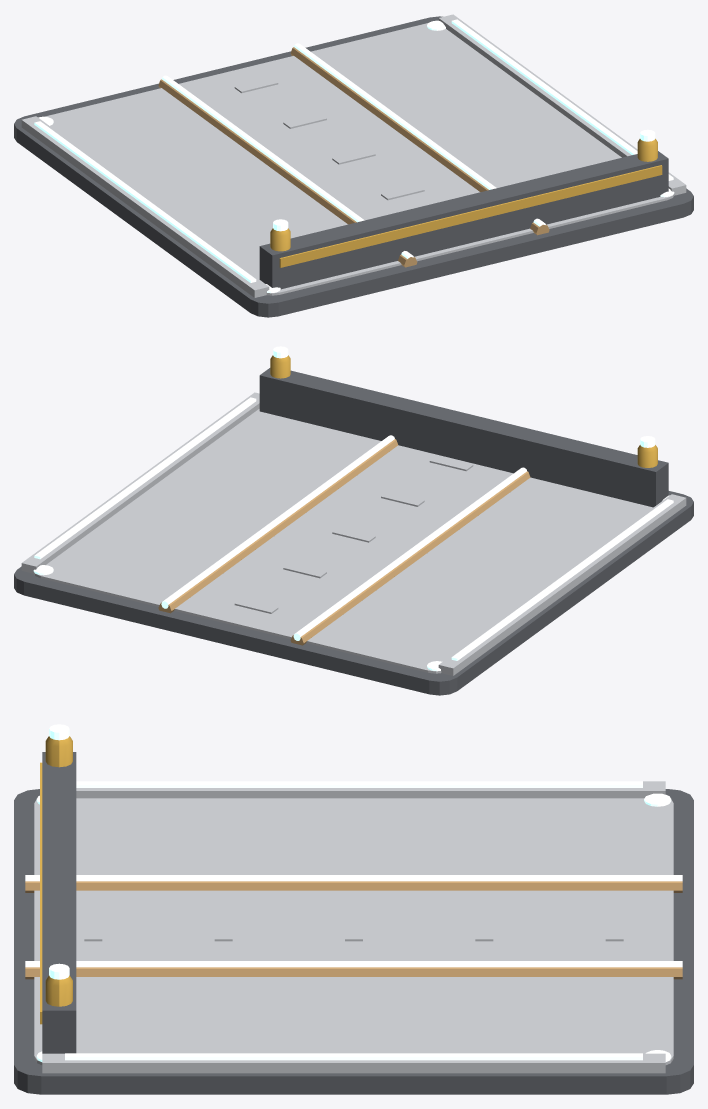
The model's file is hover-transit-and-antigrav-fleet-repulsor-road-plate-e-4ca68a47__17102.glb.
3 views of the same model, one above another, from view 1: azimuth 30°, elevation 25°; view 2: azimuth 150°, elevation 25°; view 3: azimuth 270°, elevation 25° (orthographic). The views are drawn at different scales.
Visible parts, largest first — view 1: repulsor-road-plate-end; view 2: repulsor-road-plate-end; view 3: repulsor-road-plate-end.
Part boxes in pixels (left/top/right/bottom): repulsor-road-plate-end: left=14, top=14, right=693, bottom=317; repulsor-road-plate-end: left=14, top=346, right=693, bottom=695; repulsor-road-plate-end: left=14, top=724, right=693, bottom=1094.
Size of the model in its own units: 6 by 1 by 6.
